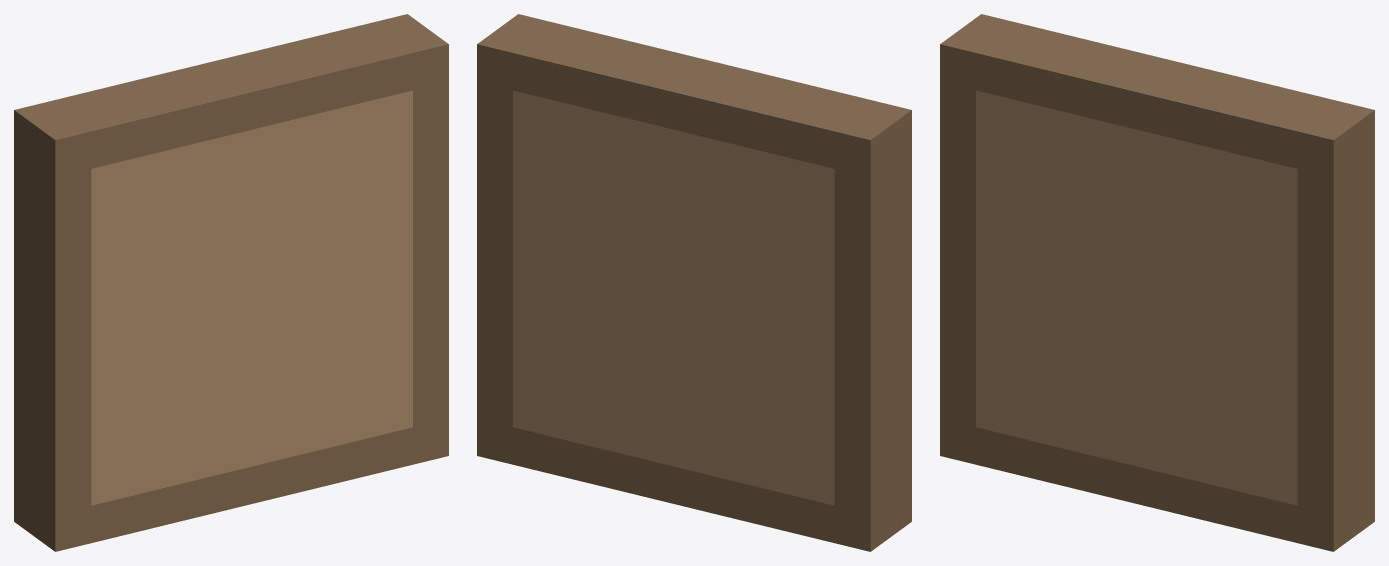
Rendered from cazuelas_sartenes_cobre_01.glb.
3 renders of one model, left to right at view 1: azimuth 30°, elevation 25°; view 2: azimuth 150°, elevation 25°; view 3: azimuth 330°, elevation 25°, orthographic.
Visible parts, largest first — view 1: cazuelas_sartenes_cobre; view 2: cazuelas_sartenes_cobre; view 3: cazuelas_sartenes_cobre.
Part boxes in pixels (x1,y1,x2,y2): cazuelas_sartenes_cobre: [14, 14, 448, 551]; cazuelas_sartenes_cobre: [477, 14, 911, 551]; cazuelas_sartenes_cobre: [940, 14, 1374, 551].
Size of the model in its own units: 1 by 1 by 0.1818.
